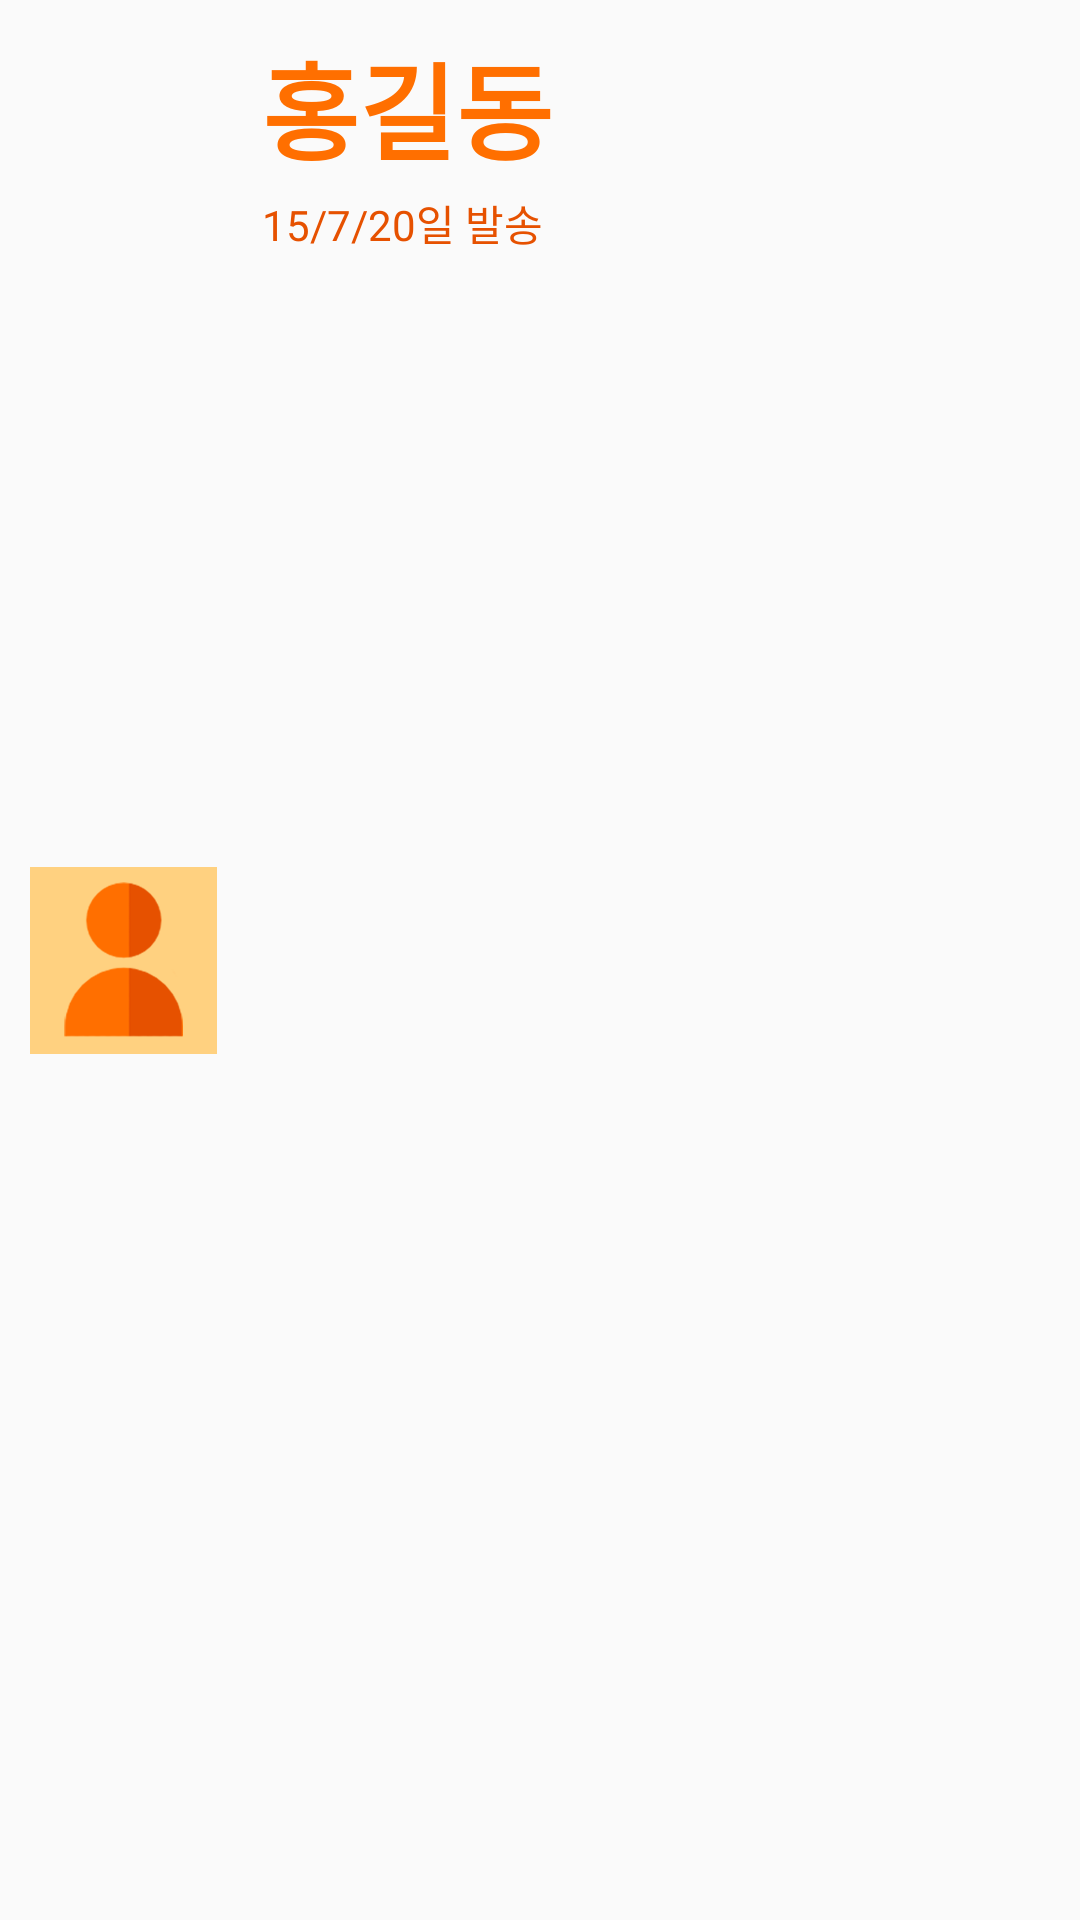

Locate icon controls on the screen. Image size 1080px x 1920px, boxes as rect(x1, y1, x2, y2).
profile: rect(30, 867, 217, 1054)
